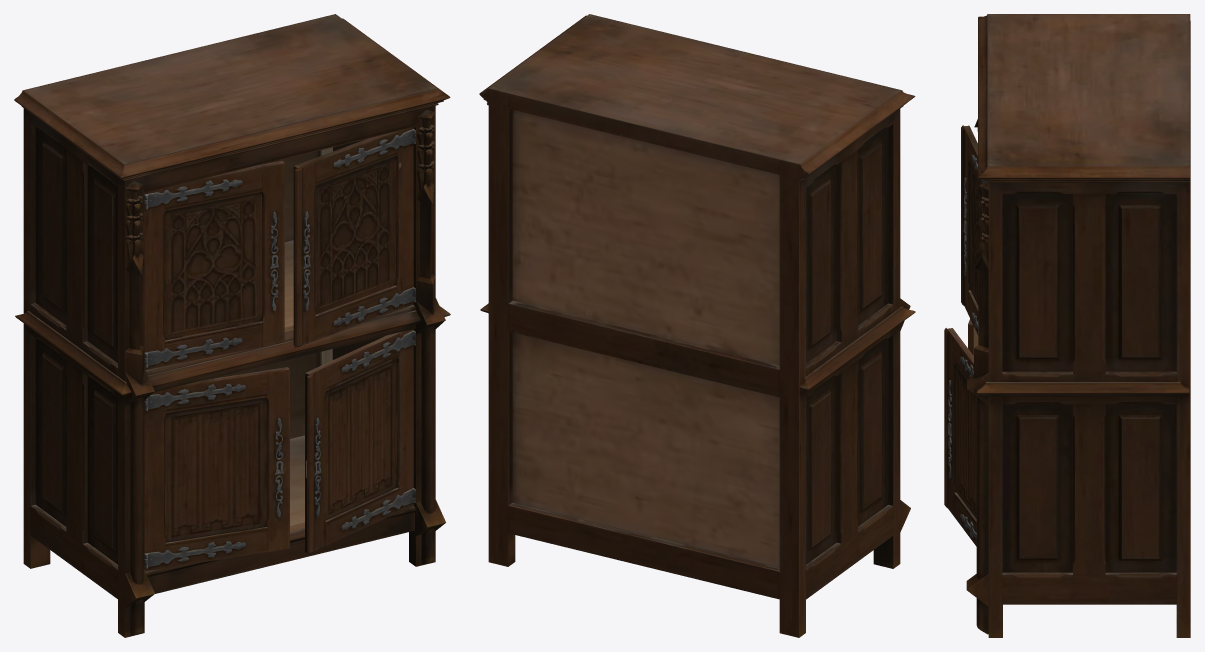
The model's file is GothicCabinet_01.glb.
3 views of the same model, side by side, from view 1: azimuth 30°, elevation 25°; view 2: azimuth 150°, elevation 25°; view 3: azimuth 270°, elevation 25° (orthographic).
Parts seen in each view (by area): view 1: GothicCabinet_01_cabinet; view 2: GothicCabinet_01_cabinet; view 3: GothicCabinet_01_cabinet.
Part boxes in pixels (bbox=[...]): GothicCabinet_01_cabinet: bbox=[14, 14, 450, 637]; GothicCabinet_01_cabinet: bbox=[479, 14, 915, 637]; GothicCabinet_01_cabinet: bbox=[944, 14, 1190, 637].
Size of the model in its own units: 1.72 by 2.36 by 1.12.
Materials: 1 (1 with a texture image).
